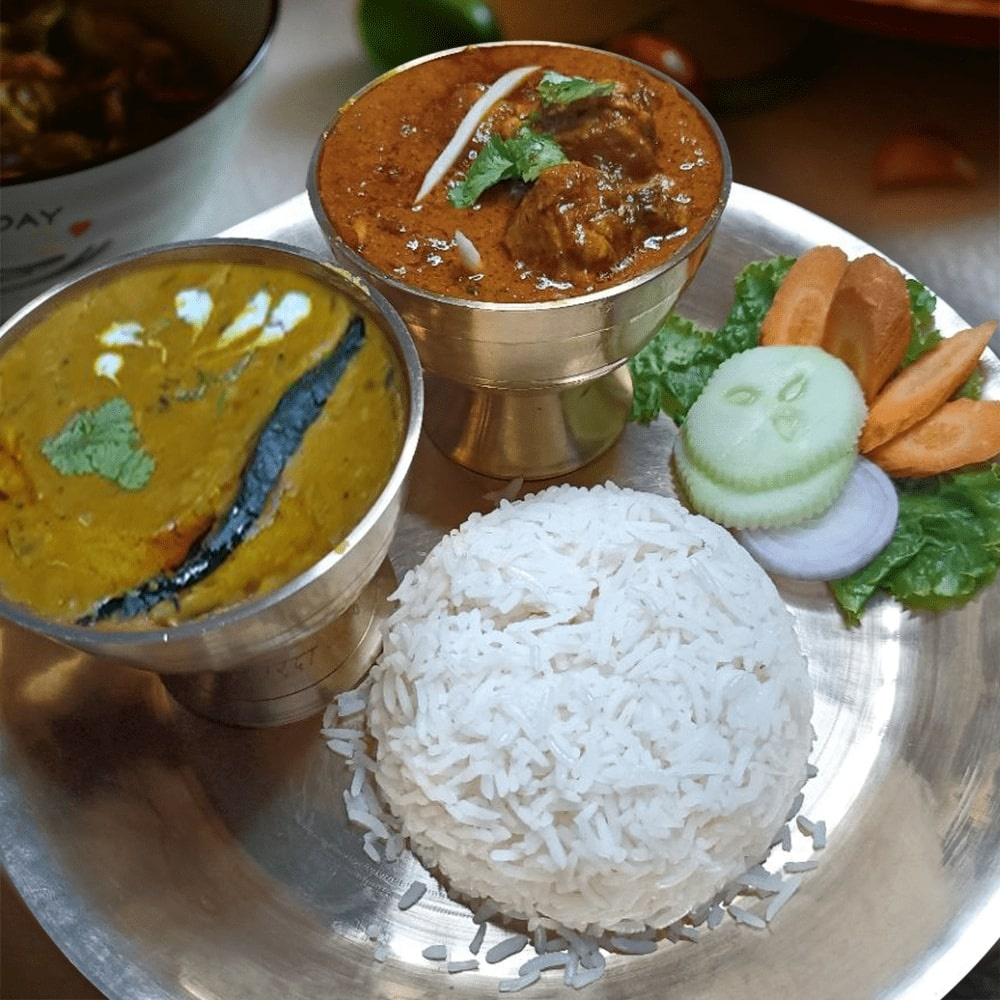bhat: (379, 487, 812, 937)
dal: (0, 261, 399, 627)
